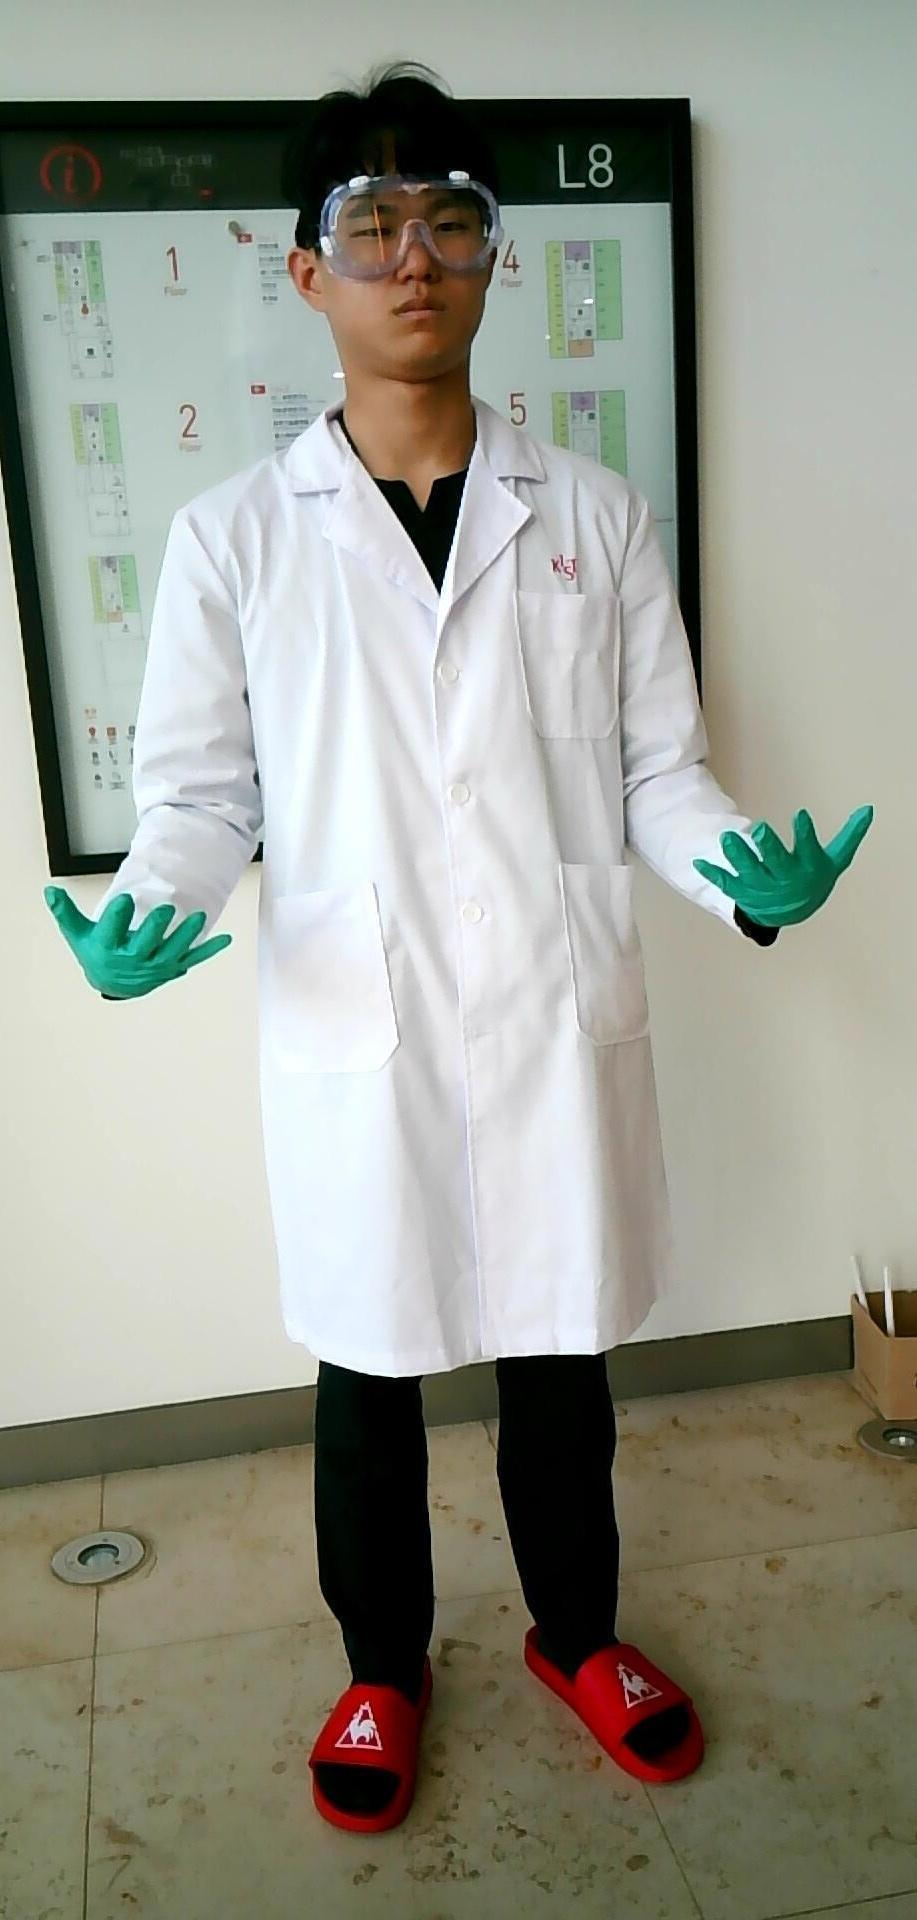lab_coat: (234, 470, 653, 1347)
